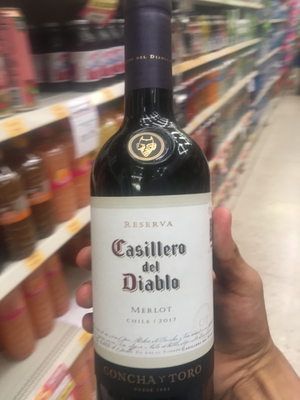casillero del diablo merlot: (88, 27, 228, 391)
